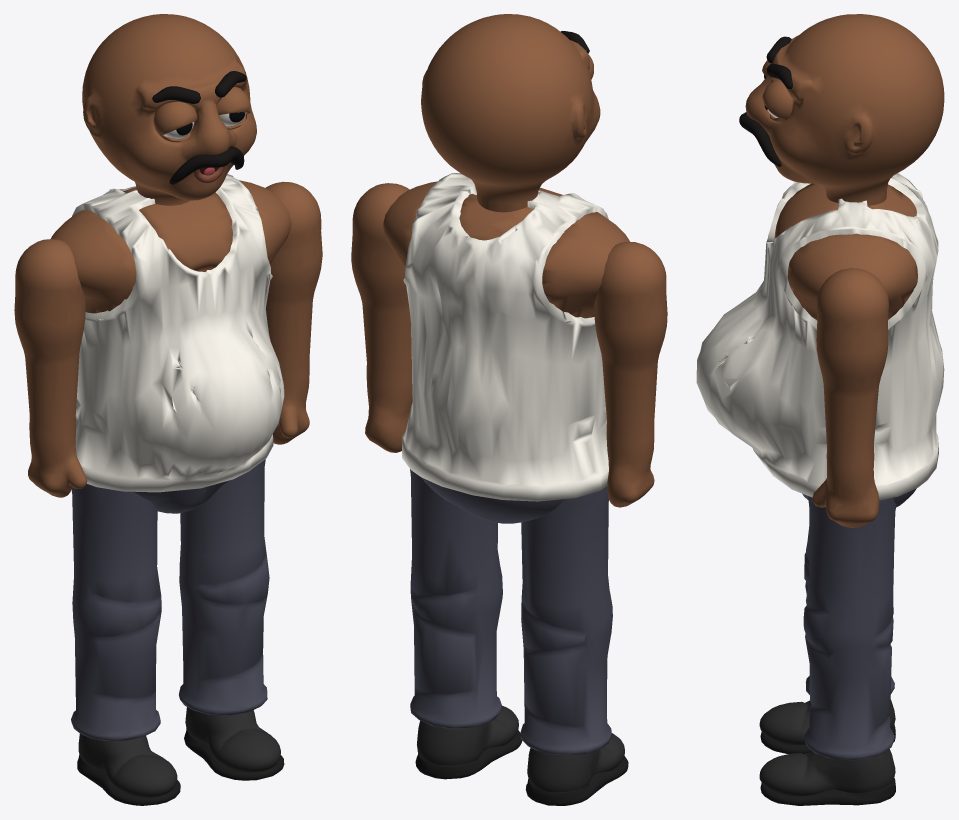
Rendered from dad.glb.
3 renders of one model, left to right at view 1: azimuth 30°, elevation 25°; view 2: azimuth 150°, elevation 25°; view 3: azimuth 270°, elevation 25°, orthographic. The views are drawn at different scales.
Parts seen in each view (by area): view 1: Body_Mesh, LegR_Mesh, Head_Mesh, LegL_Mesh, ArmR_Mesh, ArmL_Mesh; view 2: Body_Mesh, LegR_Mesh, Head_Mesh, LegL_Mesh, ArmR_Mesh, ArmL_Mesh; view 3: Body_Mesh, Head_Mesh, LegL_Mesh, ArmL_Mesh, LegR_Mesh.
Part boxes in pixels (<box>): Body_Mesh: <box>51,174,291,513</box>; LegR_Mesh: <box>71,484,180,805</box>; Head_Mesh: <box>82,14,256,205</box>; LegL_Mesh: <box>179,459,284,780</box>; ArmR_Mesh: <box>14,239,87,497</box>; ArmL_Mesh: <box>265,181,322,444</box>; Body_Mesh: <box>383,173,629,523</box>; LegR_Mesh: <box>520,486,628,805</box>; Head_Mesh: <box>421,14,600,212</box>; LegL_Mesh: <box>410,469,522,779</box>; ArmR_Mesh: <box>594,242,667,507</box>; ArmL_Mesh: <box>351,183,412,452</box>; Body_Mesh: <box>696,173,944,507</box>; Head_Mesh: <box>739,14,944,205</box>; LegL_Mesh: <box>759,496,896,805</box>; ArmL_Mesh: <box>812,268,888,527</box>; LegR_Mesh: <box>759,527,895,753</box>.
Size of the model in its own units: 0.8506 by 2 by 0.6054.
